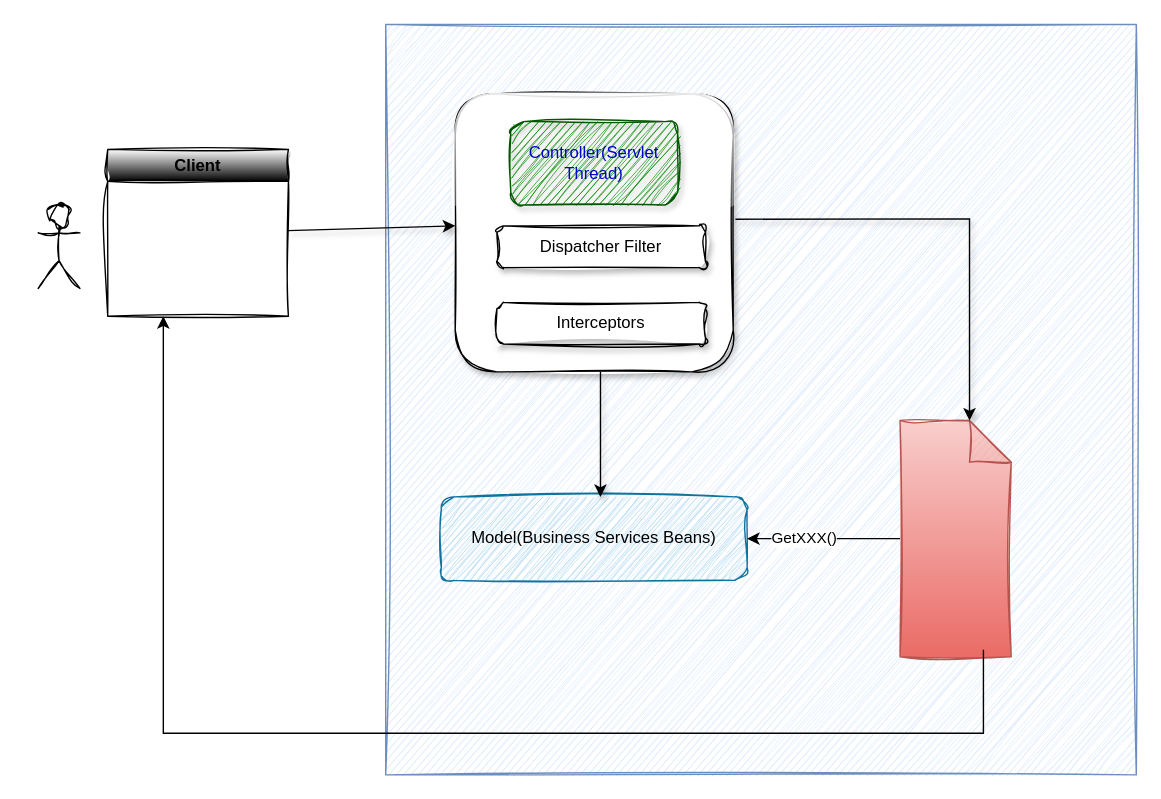
The diagram is 1161 pixels wide and 799 high, and some of its shapes have lost their labels. Here are the shapes that lost their labels. From the top down, the centre of each, then its label:
At pixel 58 246: "End User".
At pixel 955 538: "View(JSPs)".
